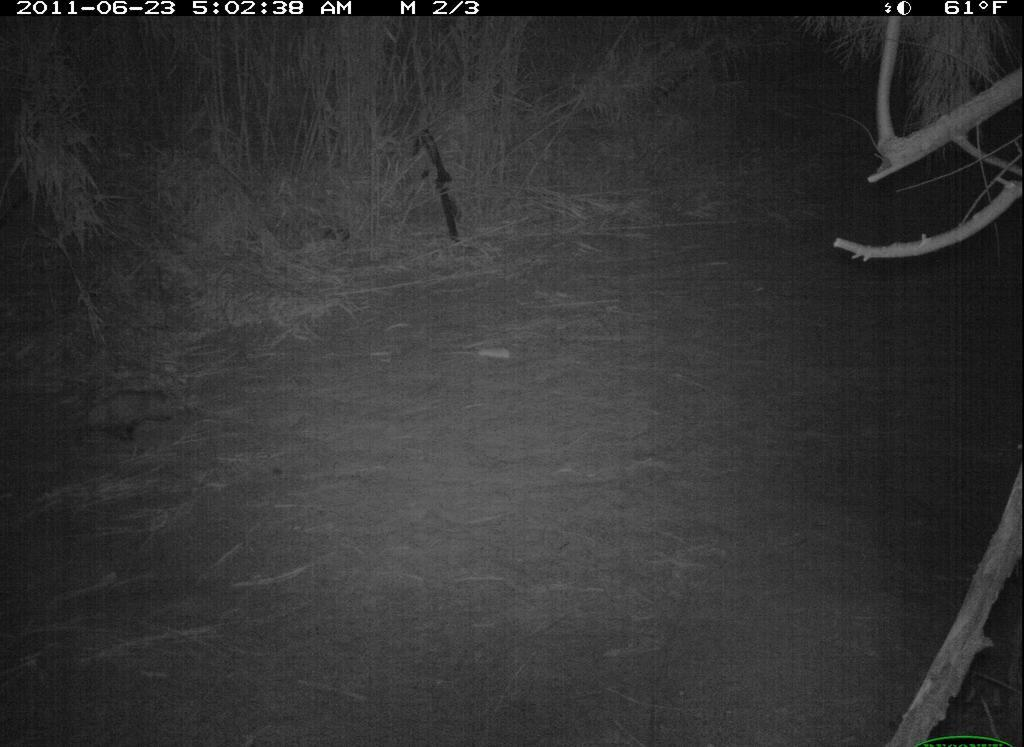opossum: (57, 373, 189, 457)
